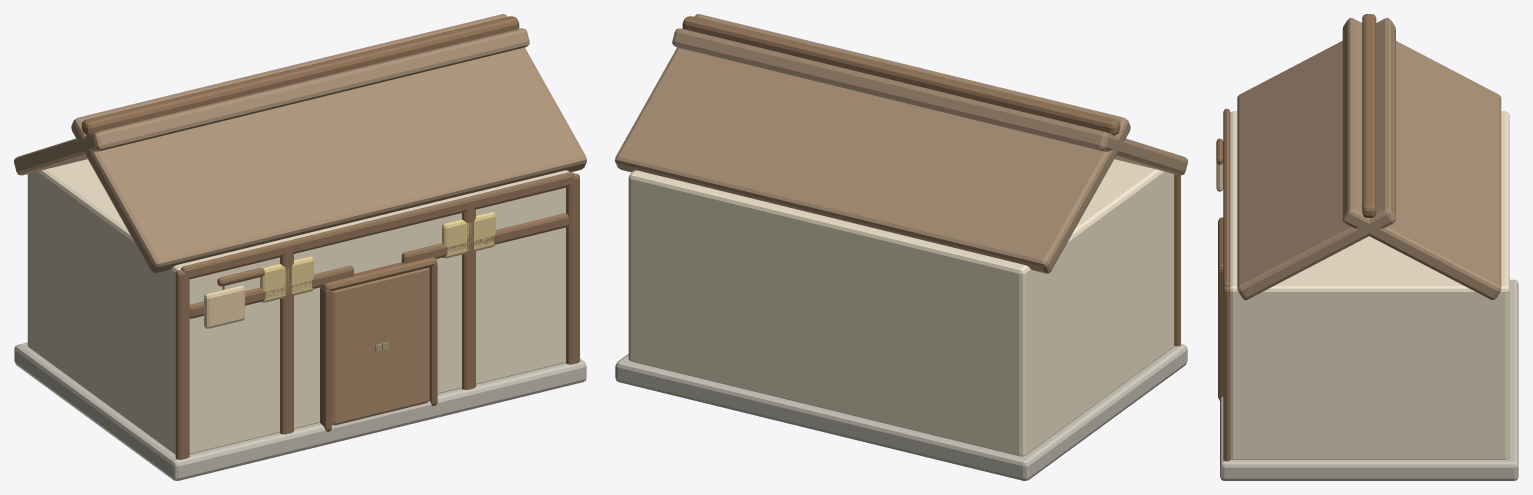
Rendered from bank.glb.
The picture shows the model from 3 angles, left to right: view 1: azimuth 30°, elevation 25°; view 2: azimuth 150°, elevation 25°; view 3: azimuth 270°, elevation 25°; orthographic projection. The views are drawn at different scales.
Visible parts, largest first — view 1: Body, Roof_F, Foundation, Roof_B, Door_L, RidgeBeam, Beam_Top_F, Door_R, Beam_F_0, Beam_F_3, Beam_F_1, Beam_F_2 (+8 smaller); view 2: Body, Roof_B, Foundation, Roof_F, RidgeBeam, Beam_F_0; view 3: Body, Roof_B, Roof_F, Foundation, RidgeBeam, Beam_Top_F, Beam_F_3, Door_Frame_R.
Part boxes in pixels (x1,y1,x2,y2): Body: (27,159,569,454); Roof_F: (71,14,586,273); Foundation: (14,342,586,480); Roof_B: (14,28,529,175); Door_L: (332,276,394,425); RidgeBeam: (81,16,519,135); Beam_Top_F: (180,172,574,279); Door_R: (385,267,429,410); Beam_F_0: (175,270,189,459); Beam_F_3: (566,173,579,364); Beam_F_1: (280,248,293,434); Beam_F_2: (462,204,475,389); Body: (628,159,1174,456); Roof_B: (615,14,1130,273); Foundation: (615,344,1187,480); Roof_F: (672,28,1187,175); RidgeBeam: (682,16,1120,135); Beam_F_0: (1174,174,1180,346); Body: (1230,111,1509,459); Roof_B: (1342,17,1501,300); Roof_F: (1237,18,1395,300); Foundation: (1220,279,1518,480); RidgeBeam: (1362,14,1376,217); Beam_Top_F: (1223,108,1230,287); Beam_F_3: (1223,286,1230,461); Door_Frame_R: (1218,269,1223,400).
Bounding box in the file's own units: 2.62 × 1.76 × 1.72.
